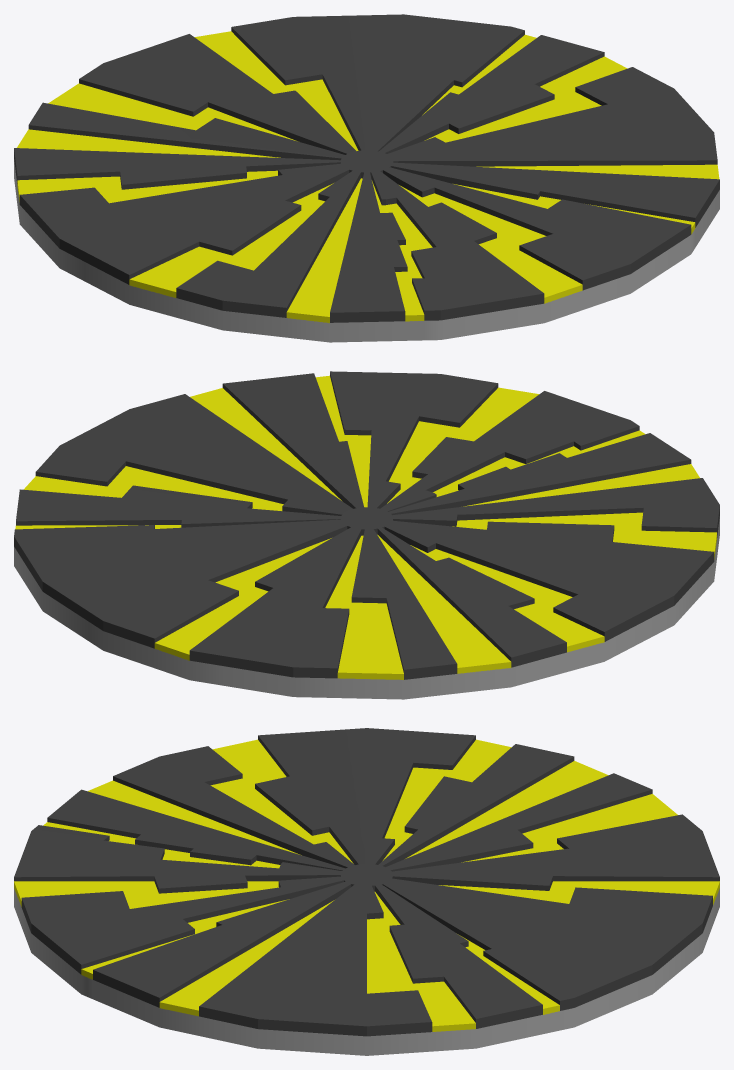
File: CorruptionZone_Raw.fbx
3 views of the same model, one above another, from view 1: azimuth 30°, elevation 25°; view 2: azimuth 150°, elevation 25°; view 3: azimuth 270°, elevation 25° (orthographic).
Visible parts, largest first — view 1: pCylinder1, pCylinder2; view 2: pCylinder1, pCylinder2; view 3: pCylinder1, pCylinder2.
Part boxes in pixels (x1,y1,x2,y2): pCylinder1: (14, 14, 719, 342); pCylinder2: (17, 31, 719, 323); pCylinder1: (14, 371, 719, 699); pCylinder2: (15, 375, 716, 679); pCylinder1: (14, 728, 719, 1055); pCylinder2: (14, 739, 719, 1031).
Bounding box in the file's own units: 22.1 × 1.1 × 22.1.
